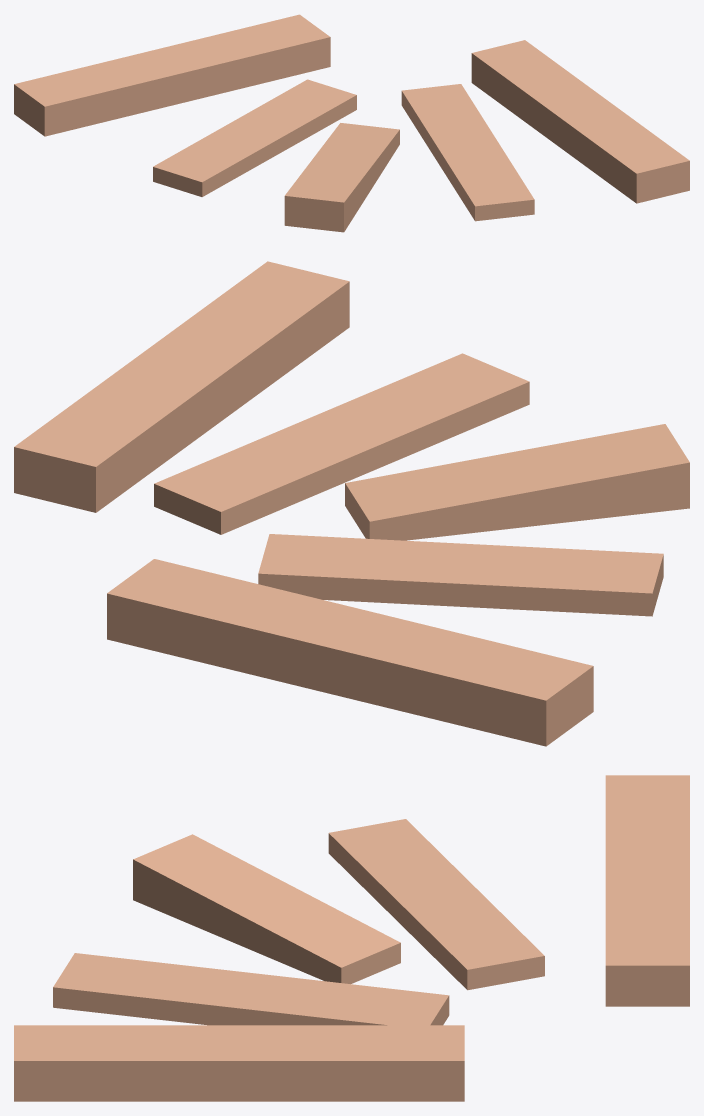
File: path_woodCorner.gltf
3 views of the same model, one above another, from view 1: azimuth 30°, elevation 25°; view 2: azimuth 150°, elevation 25°; view 3: azimuth 270°, elevation 25° (orthographic). The views are drawn at different scales.
Visible parts, largest first — view 1: path_woodCorner; view 2: path_woodCorner; view 3: path_woodCorner.
Part boxes in pixels (bbox=[...]): path_woodCorner: bbox=[14, 14, 689, 232]; path_woodCorner: bbox=[14, 261, 689, 746]; path_woodCorner: bbox=[14, 775, 689, 1101].
Bounding box in the file's own units: 0.75 × 0.05 × 0.75.
